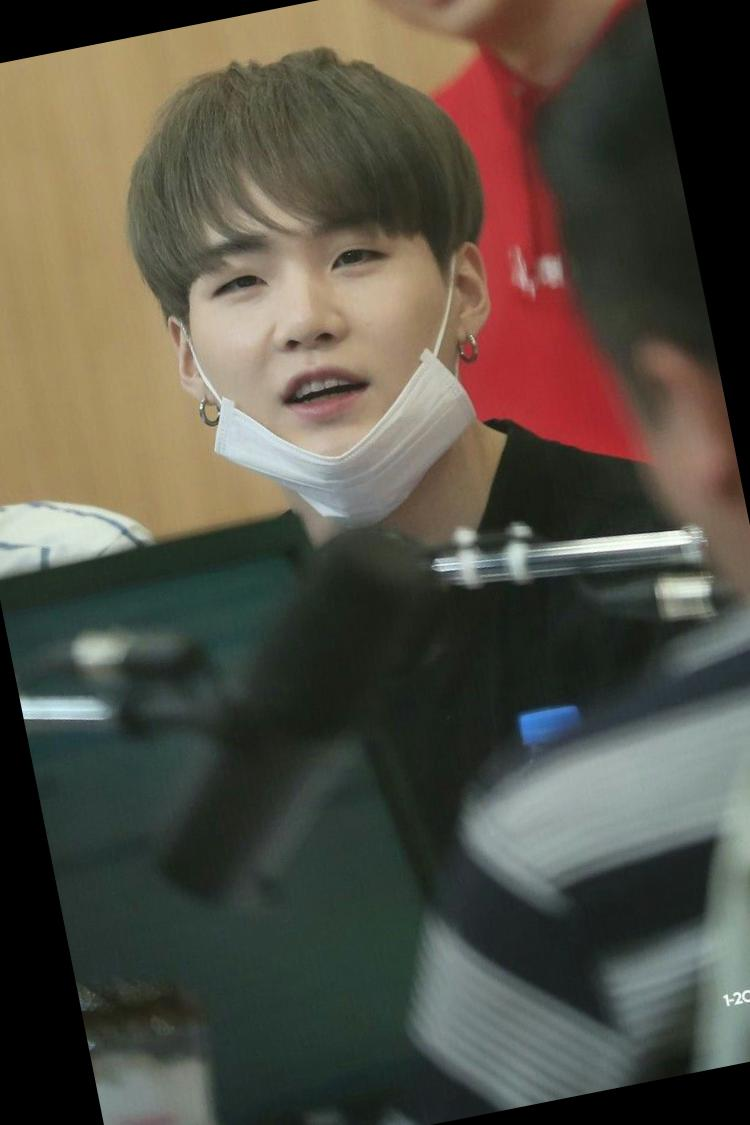mask_weared_incorrect: (188, 214, 491, 526)
